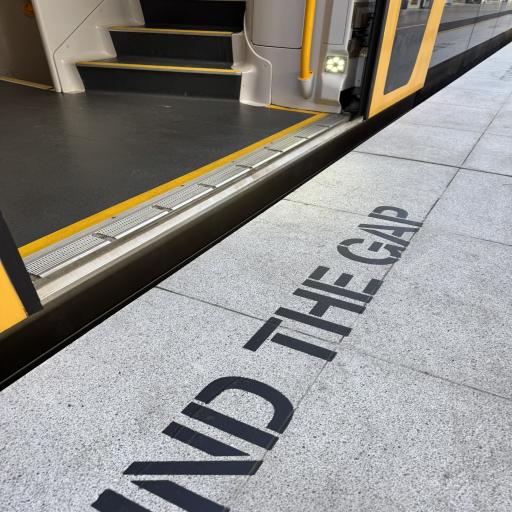gap: (0, 40, 512, 392)
